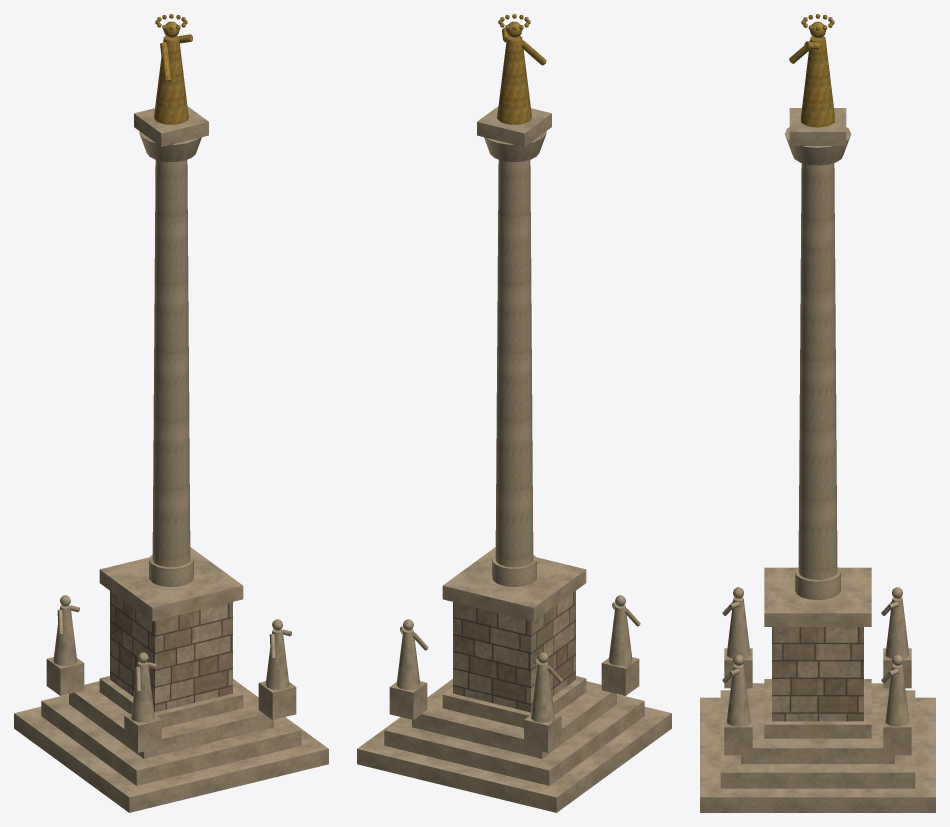
The model's file is marian_column.gltf.
3 renders of one model, left to right at view 1: azimuth 30°, elevation 25°; view 2: azimuth 150°, elevation 25°; view 3: azimuth 270°, elevation 25°, orthographic. The views are drawn at different scales.
Visible parts, largest first — view 1: marian_column_mesh; view 2: marian_column_mesh; view 3: marian_column_mesh.
Boxes of the visible parts, box(x1,y1,x2,y2) form: marian_column_mesh: box(14, 14, 328, 812); marian_column_mesh: box(357, 14, 671, 812); marian_column_mesh: box(700, 14, 935, 812).
Size of what is drawn, in the model's own units: 4.6 by 16 by 4.6.
4 materials, 4 textured.
